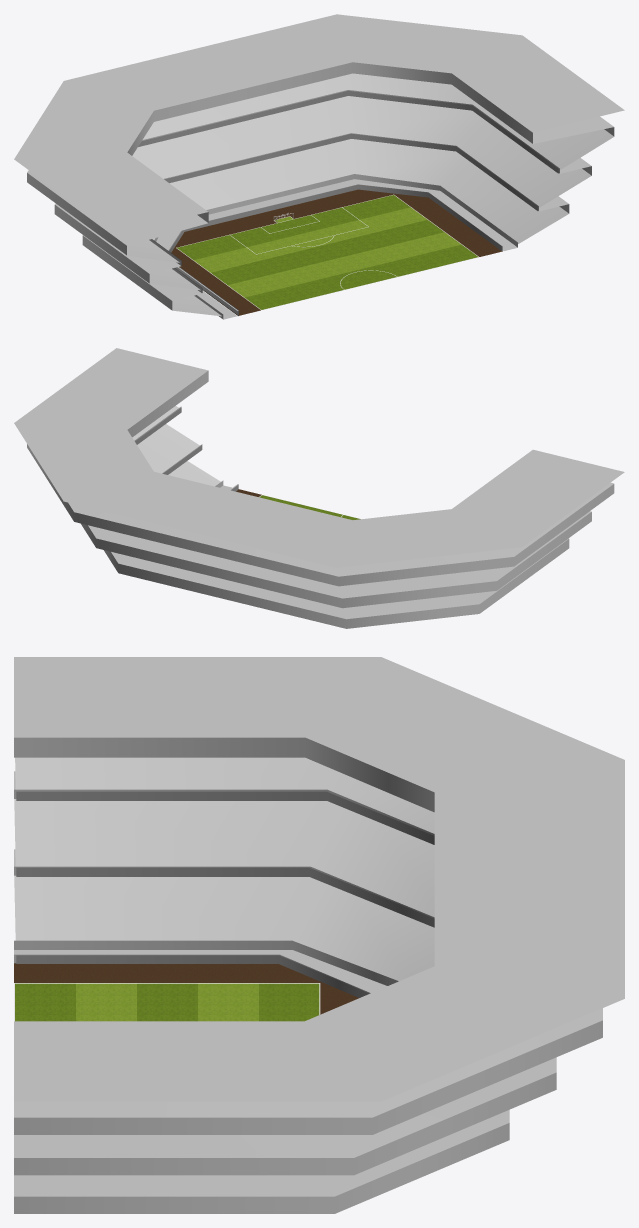
Rendered from stadion_rev.FBX.
3 views of the same model, one above another, from view 1: azimuth 30°, elevation 25°; view 2: azimuth 150°, elevation 25°; view 3: azimuth 270°, elevation 25° (orthographic). The views are drawn at different scales.
Visible parts, largest first — view 1: soccer_field, Object02, for text animation, Object01, lapang; view 2: soccer_field, for text animation; view 3: soccer_field, Object02, for text animation, Object01.
Part boxes in pixels (bbox=[...]): soccer_field: bbox=[14, 14, 624, 319]; Object02: bbox=[177, 195, 478, 309]; for text animation: bbox=[138, 90, 558, 314]; Object01: bbox=[171, 189, 502, 315]; lapang: bbox=[176, 194, 479, 310]; soccer_field: bbox=[14, 348, 624, 628]; for text animation: bbox=[135, 407, 238, 491]; soccer_field: bbox=[14, 657, 624, 1213]; Object02: bbox=[15, 983, 319, 1021]; for text animation: bbox=[16, 791, 434, 997]; Object01: bbox=[14, 963, 358, 1014].
Bounding box in the file's own units: 717602 × 150964 × 416796.
